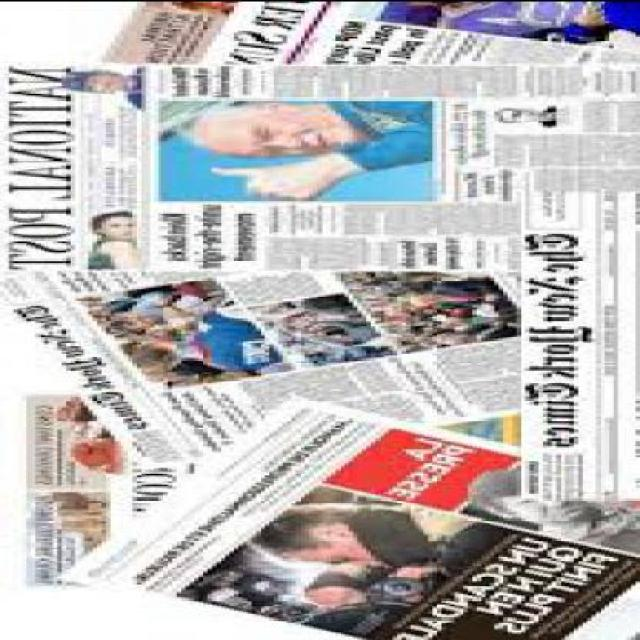paper: (57, 392, 635, 638), (0, 60, 635, 269), (0, 266, 512, 466), (19, 390, 366, 584), (508, 184, 635, 498), (97, 0, 635, 62)
